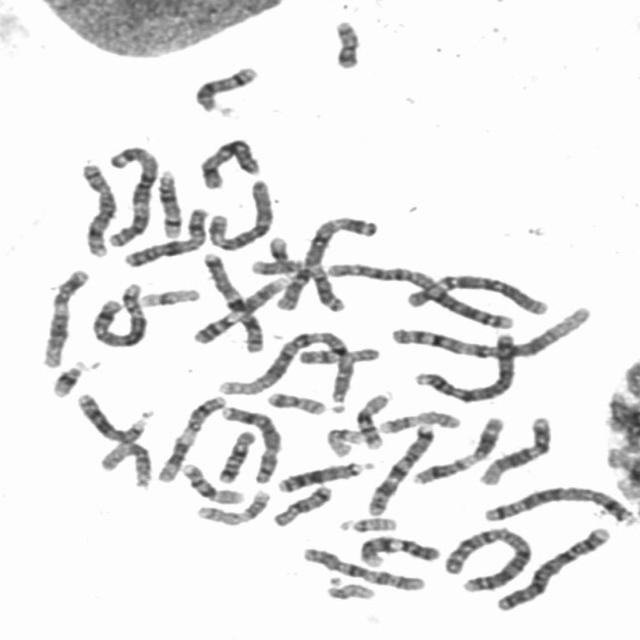A1: (388, 298, 597, 361), (216, 324, 347, 396)
A2: (321, 256, 519, 331), (438, 520, 538, 594)
A3: (298, 209, 382, 313), (101, 139, 164, 247)
B4: (493, 522, 614, 614), (406, 325, 521, 405)
B5: (479, 480, 639, 526), (86, 278, 152, 350)
C10: (297, 541, 431, 593), (245, 257, 312, 309)
C11: (408, 410, 509, 486), (153, 389, 231, 484)
C12: (474, 411, 556, 487), (35, 263, 93, 369)
C6: (396, 269, 552, 317), (204, 173, 278, 252)
C7: (362, 418, 440, 516), (198, 248, 268, 354)
C8: (216, 401, 286, 486), (75, 157, 120, 259)
C9: (190, 272, 293, 344), (354, 530, 444, 569)
D13: (72, 387, 153, 445), (273, 455, 377, 494)
D14: (188, 60, 262, 114), (152, 163, 187, 240)
D15: (329, 346, 382, 412), (95, 436, 157, 490)
E16: (176, 457, 247, 506), (353, 386, 397, 450)
E17: (192, 484, 276, 527), (375, 404, 465, 435)
E18: (268, 479, 336, 528), (212, 426, 259, 484)
F19: (133, 282, 204, 309), (322, 422, 367, 458)
F20: (328, 13, 365, 70), (262, 386, 331, 416)
G21: (46, 354, 92, 399), (264, 231, 297, 272)
G22: (321, 576, 380, 602), (334, 511, 401, 533)
X: (119, 202, 214, 269), (194, 133, 264, 191)
